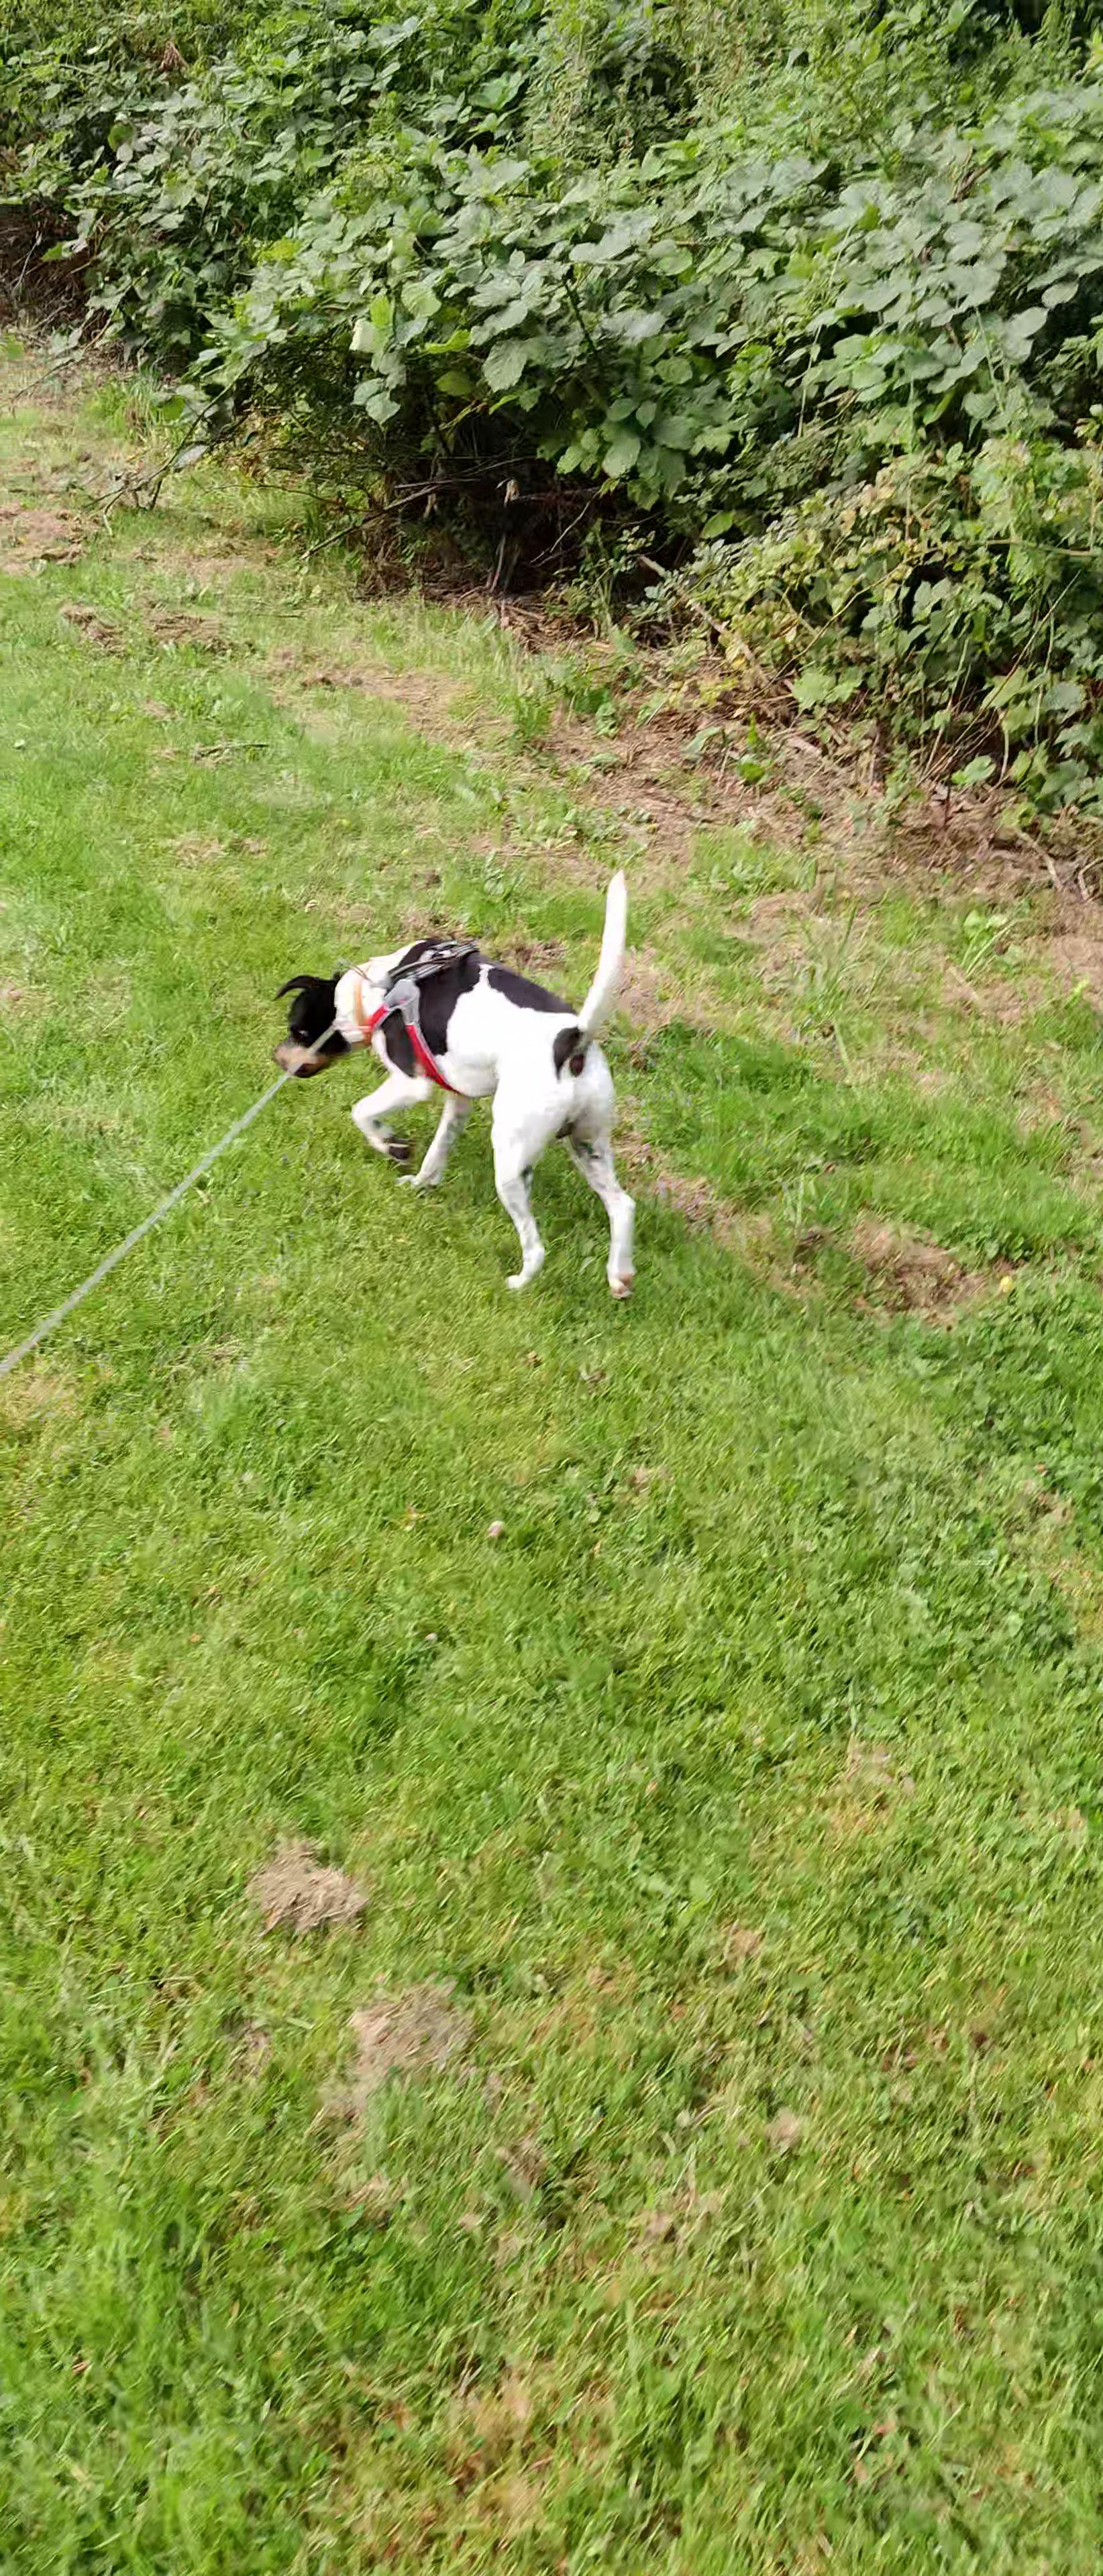Dog: (268, 859, 654, 1306)
